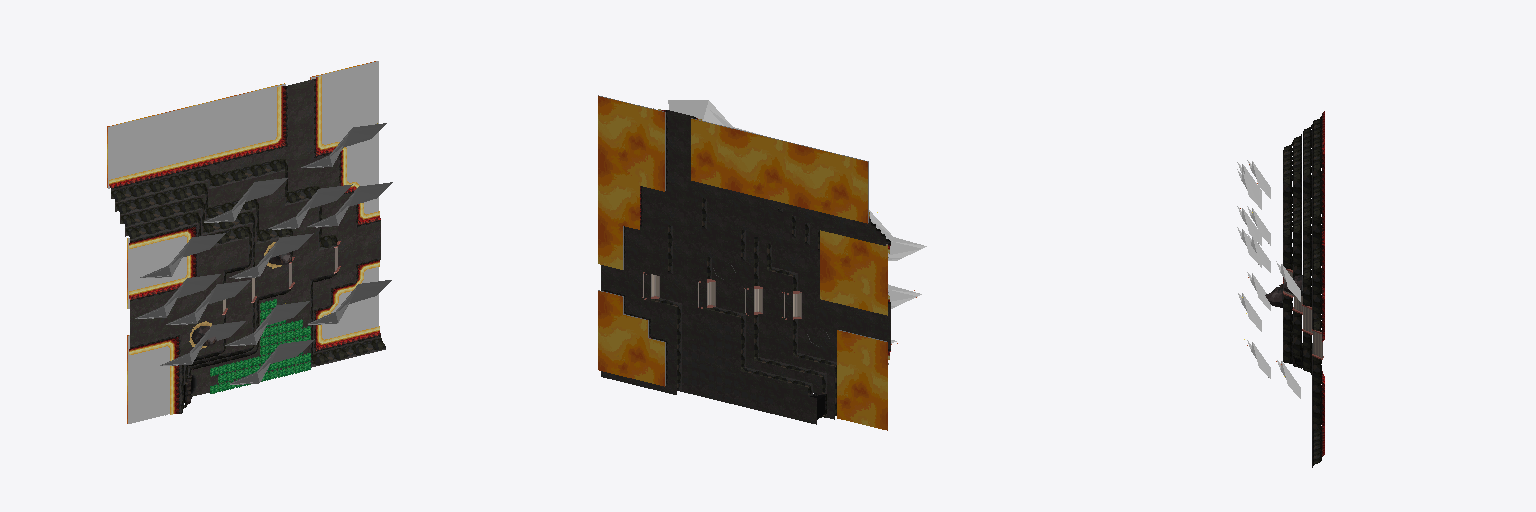
3 views of the same model, side by side, from view 1: azimuth 30°, elevation 25°; view 2: azimuth 150°, elevation 25°; view 3: azimuth 270°, elevation 25° (orthographic).
Parts seen in each view (by area): view 1: map; view 2: map; view 3: map.
Boxes of the visible parts, x1,y1,x2,y2 form: map: [107, 61, 392, 423]; map: [598, 95, 926, 430]; map: [1237, 111, 1324, 467].
Bounding box in the file's own units: 34.59 × 32.12 × 9.9.
Materials: 20 (16 with a texture image).